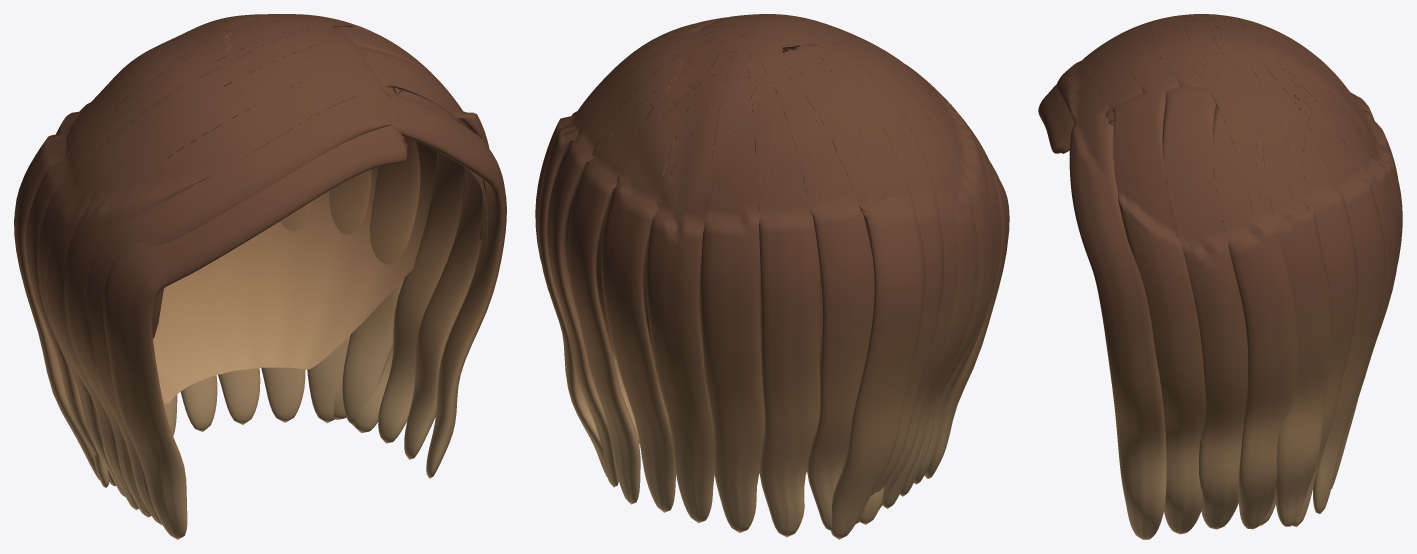
Rendered from Feminine-side-sweep-headband261-hair-ombre.glb.
3 renders of one model, left to right at view 1: azimuth 30°, elevation 25°; view 2: azimuth 150°, elevation 25°; view 3: azimuth 270°, elevation 25°, orthographic. The views are drawn at different scales.
Parts seen in each view (by area): view 1: 226 hair / Hair / sculpted 0.002, 226 hair / Hair / sculpted 1.004, 226 hair / Hair / sculpted 2.002, 226 hair / Hair / sculpted 1.003; view 2: 226 hair / Hair / sculpted 0.002, 226 hair / Hair / sculpted 2.002, 226 hair / Hair / sculpted 1.004, 226 hair / Hair / sculpted 1.003; view 3: 226 hair / Hair / sculpted 1.004, 226 hair / Hair / sculpted 2.002, 226 hair / Hair / sculpted 0.002.
Boxes of the visible parts, <box> form: 226 hair / Hair / sculpted 0.002: <box>14,14,463,539</box>; 226 hair / Hair / sculpted 1.004: <box>37,14,506,525</box>; 226 hair / Hair / sculpted 2.002: <box>26,14,489,517</box>; 226 hair / Hair / sculpted 1.003: <box>152,90,487,403</box>; 226 hair / Hair / sculpted 0.002: <box>567,14,1009,539</box>; 226 hair / Hair / sculpted 2.002: <box>537,14,993,530</box>; 226 hair / Hair / sculpted 1.004: <box>535,16,1001,537</box>; 226 hair / Hair / sculpted 1.003: <box>565,179,822,383</box>; 226 hair / Hair / sculpted 1.004: <box>1056,14,1399,539</box>; 226 hair / Hair / sculpted 2.002: <box>1083,14,1402,534</box>; 226 hair / Hair / sculpted 0.002: <box>1038,14,1398,529</box>.
Bounding box in the file's own units: 1.01 × 1.07 × 0.8006.
